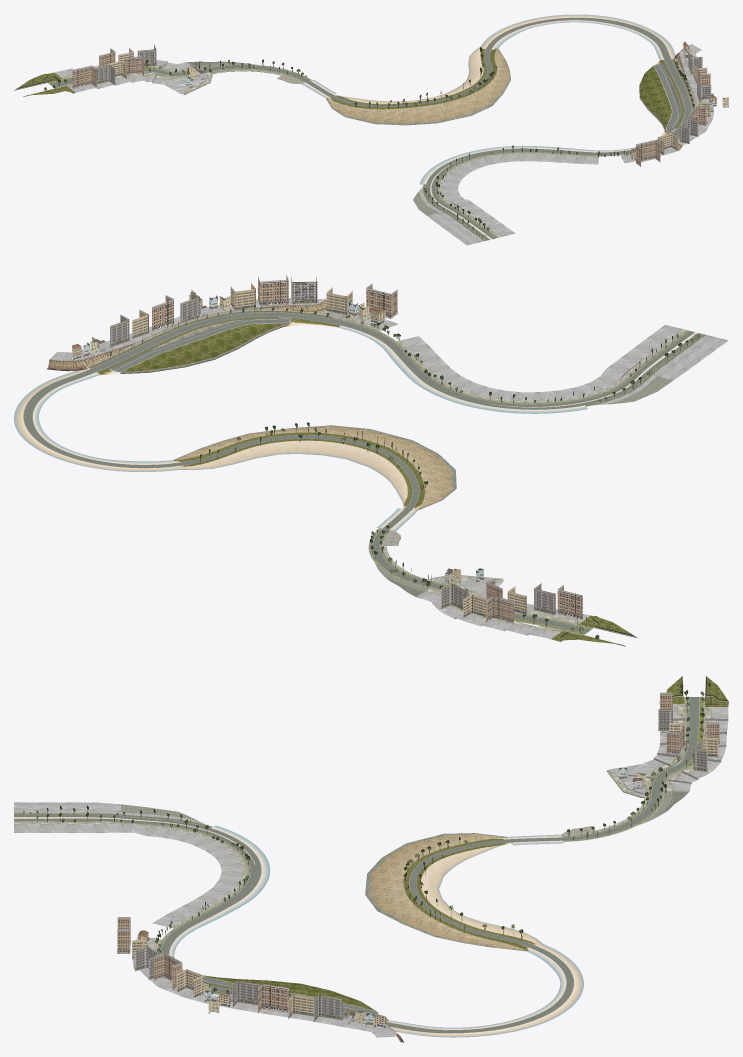
Rendered from stage-palm-env.glb.
3 renders of one model, top to bottom at view 1: azimuth 30°, elevation 25°; view 2: azimuth 150°, elevation 25°; view 3: azimuth 270°, elevation 25°, orthographic. The views are drawn at different scales.
Parts seen in each view (by area): view 1: env part 1, env part 0, env part 2, env part 3; view 2: env part 1, env part 0, env part 2, env part 3; view 3: env part 1, env part 0, env part 2, env part 3.
Part boxes in pixels (x1,y1,x2,y2): env part 1: [14, 44, 713, 245]; env part 0: [49, 14, 692, 240]; env part 2: [72, 41, 728, 237]; env part 3: [32, 47, 694, 237]; env part 1: [47, 298, 728, 646]; env part 0: [14, 312, 702, 634]; env part 2: [72, 274, 698, 623]; env part 3: [110, 305, 699, 639]; env part 1: [14, 676, 728, 1042]; env part 0: [14, 697, 701, 1037]; env part 2: [24, 692, 719, 1028]; env part 3: [23, 682, 710, 1016].
Size of the model in its own units: 2021 by 98.73 by 1712.
43 materials, 42 textured.
